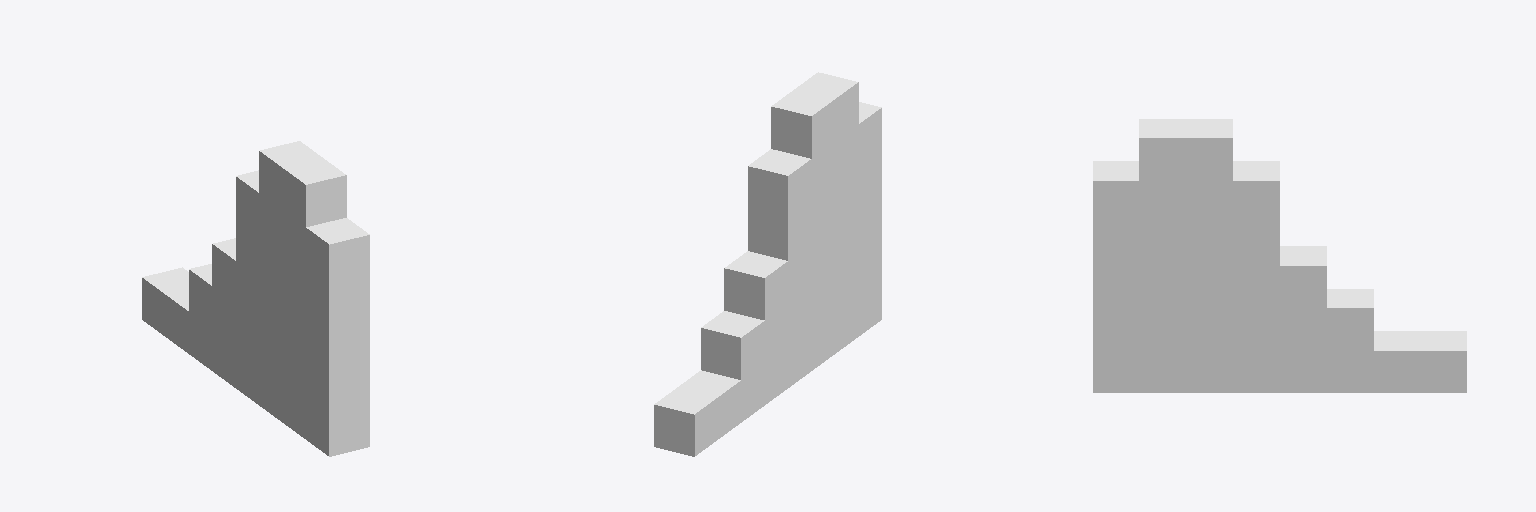
Rendered from YellowHouseParts-5.obj.
The picture shows the model from 3 angles: view 1: azimuth 30°, elevation 25°; view 2: azimuth 150°, elevation 25°; view 3: azimuth 270°, elevation 25°; orthographic projection.
Parts seen in each view (by area): view 1: object 1; view 2: object 1; view 3: object 1.
Boxes of the visible parts, <box> form: object 1: <box>142,141,369,456</box>; object 1: <box>654,72,881,456</box>; object 1: <box>1093,119,1466,392</box>.
Bounding box in the file's own units: 0.1 × 0.6 × 0.8.